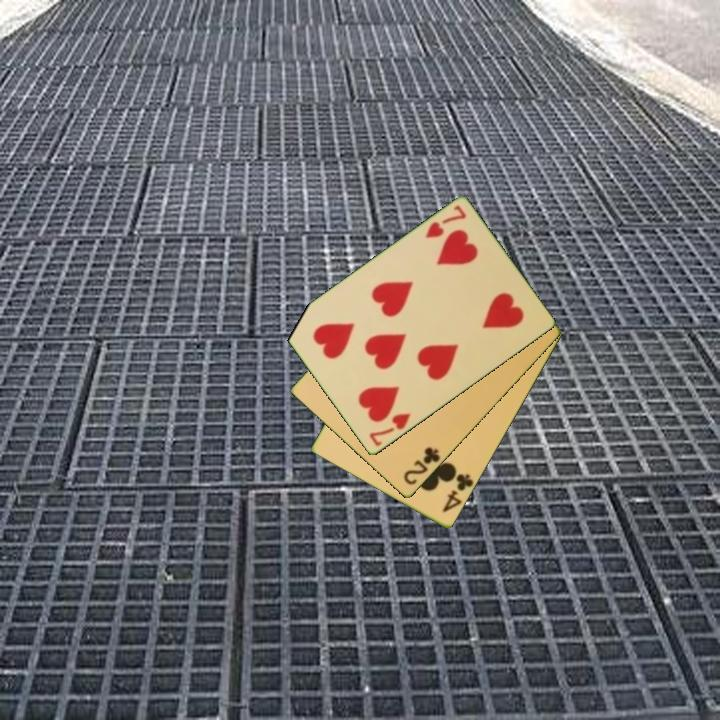2c: (400, 444, 443, 488)
4c: (439, 470, 476, 516)
7h: (365, 410, 414, 450), (422, 202, 469, 242)
